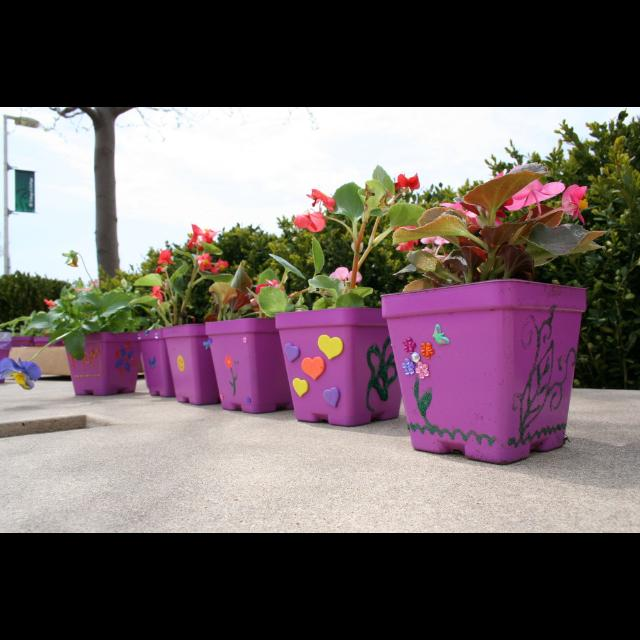Flower: (1, 353, 41, 387), (327, 265, 359, 283), (296, 214, 326, 232), (117, 343, 133, 371), (398, 172, 420, 192), (187, 224, 203, 250), (154, 244, 172, 264), (60, 249, 76, 267), (416, 360, 429, 380), (210, 258, 230, 270), (402, 336, 414, 354), (578, 196, 592, 210), (200, 250, 208, 272), (403, 357, 413, 373), (422, 341, 433, 355)
